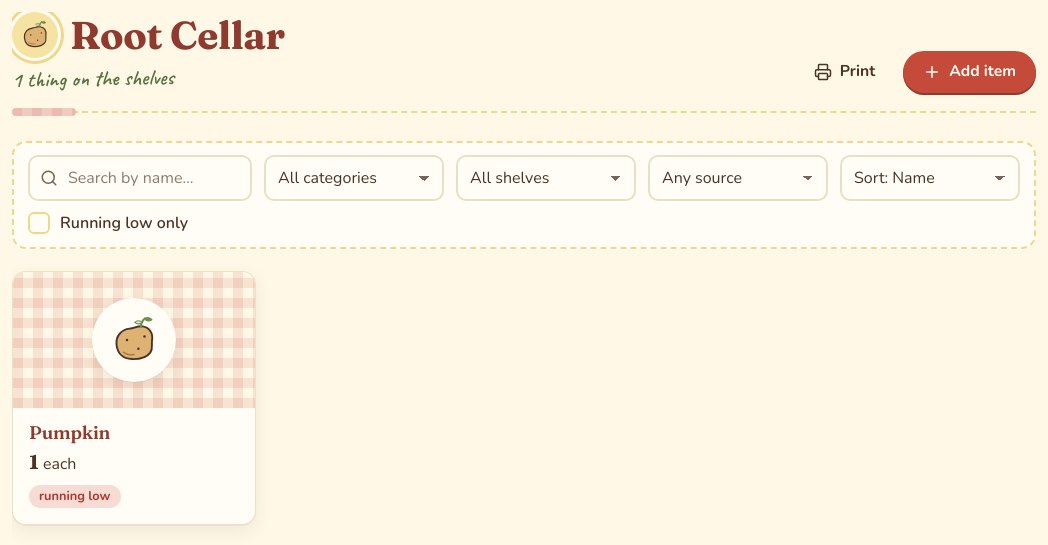
it: cancels a queued print when loading fails, so a later load does not open the dialog
The width and height of the screenshot is (1048, 545).
Expected: the heading "Pumpkin" is shown, [29,421,110,444]
Click the checkbox labelled "Running low only".
click(39, 222)  # box [28,212,50,234]
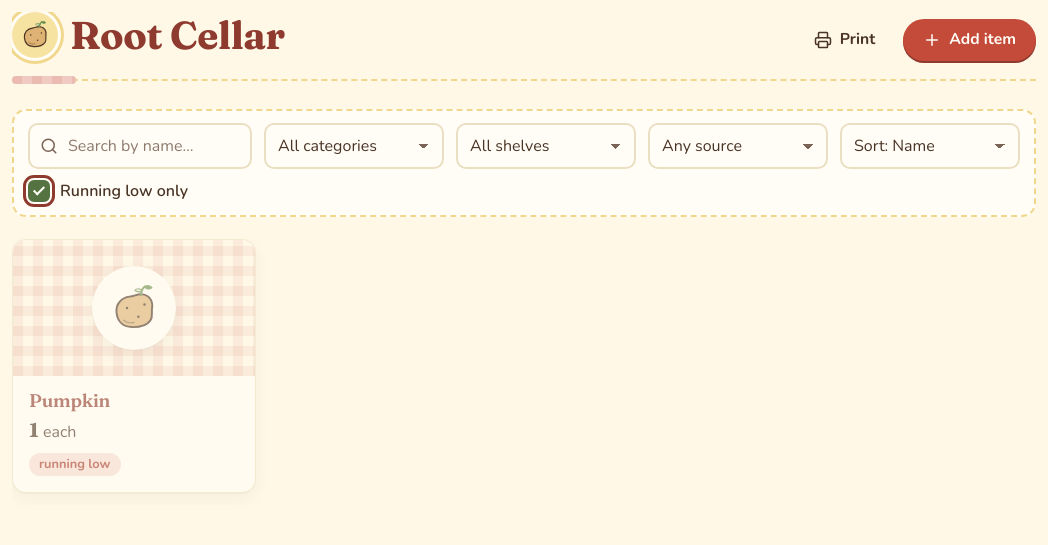
Click the button "Print".
click(844, 40)  # box [794,19,895,61]
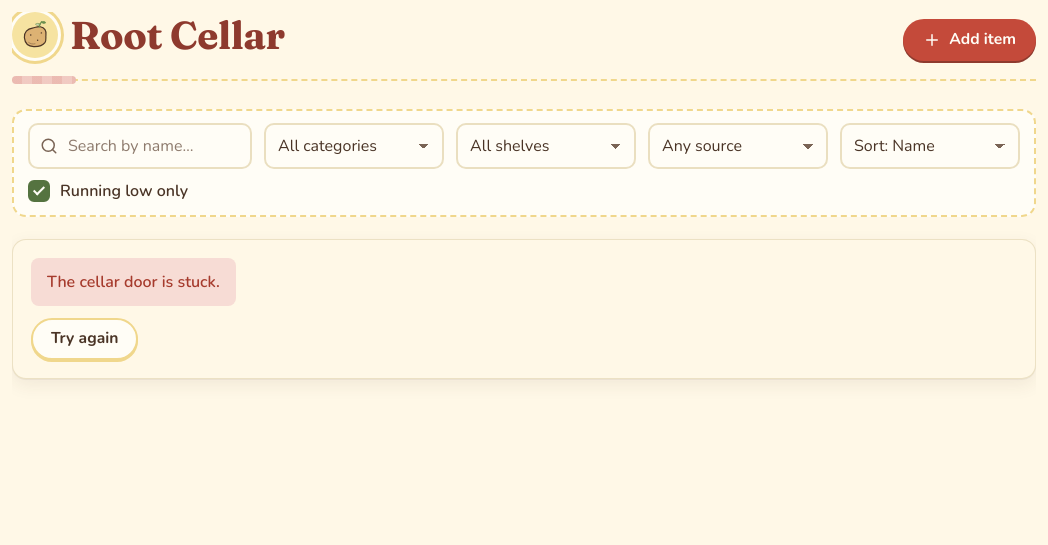
Expected: the text "The cellar door is stuck." is shown, [31,258,236,306]
Click the checkbox labelled "Running low only".
click(39, 191)  # box [28,180,50,202]
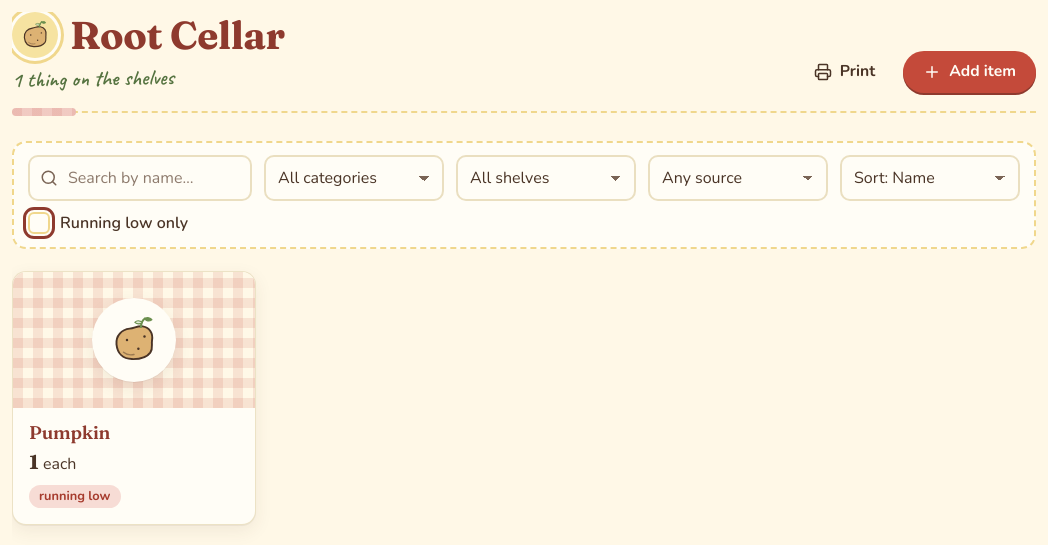
Expected: the heading "Pumpkin" is shown, [29,421,110,444]
